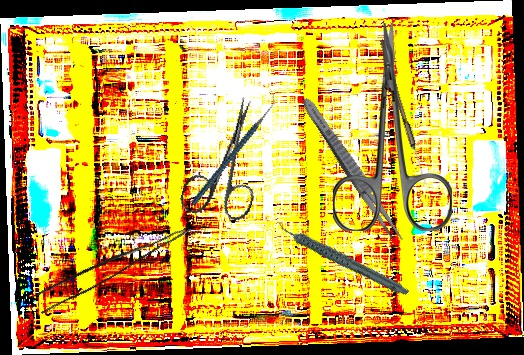Chopper: (164, 91, 303, 207)
Dressing Forceps: (297, 94, 408, 247)
Handpiece: (275, 195, 411, 320)
Iris Scissors: (333, 23, 452, 231), (177, 88, 280, 228)
Surgical Spoon: (376, 39, 430, 186)
Tissue Forceps: (31, 208, 192, 319)
